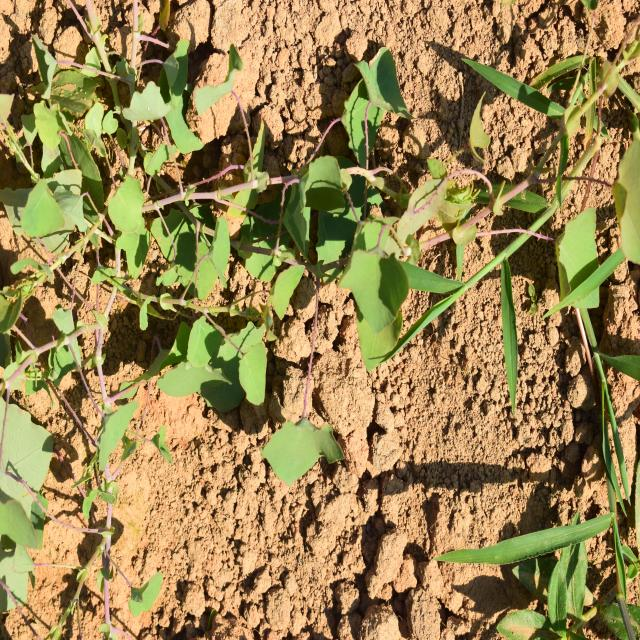Asiatic_Smartweed: (278, 91, 411, 381), (91, 172, 256, 318), (164, 292, 270, 418)
